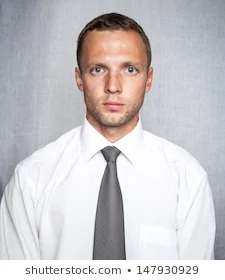F_shirt: (1, 114, 215, 260)
F_tie: (95, 144, 127, 257)
